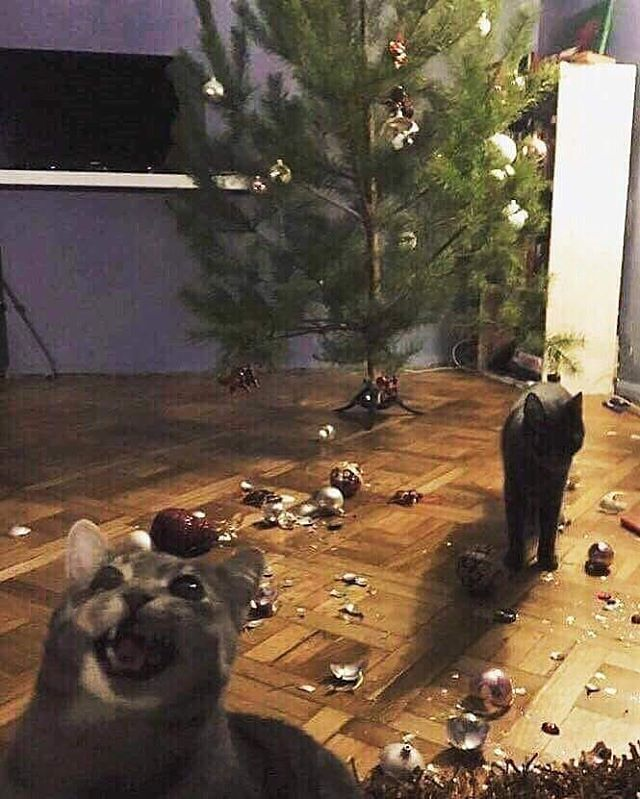animal: (1, 533, 339, 799), (479, 355, 594, 583)
trash: (122, 446, 640, 765)
tree: (168, 1, 532, 420)
